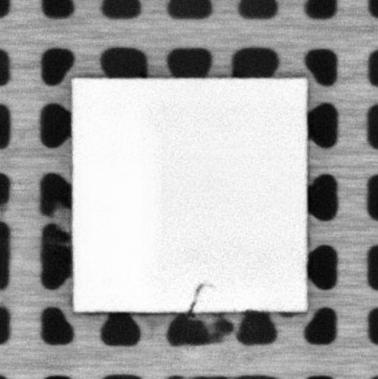DIE_INK: (188, 281, 204, 314)
